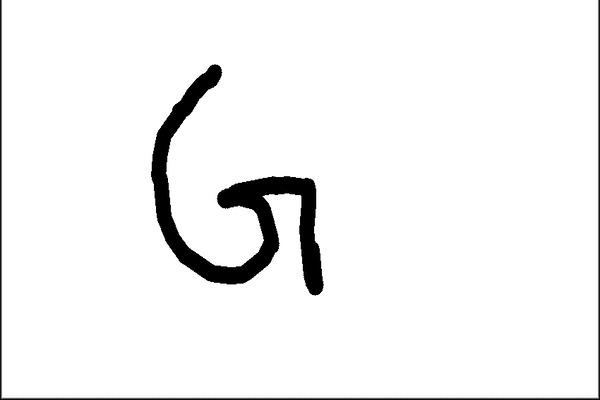G: (147, 60, 329, 299)
